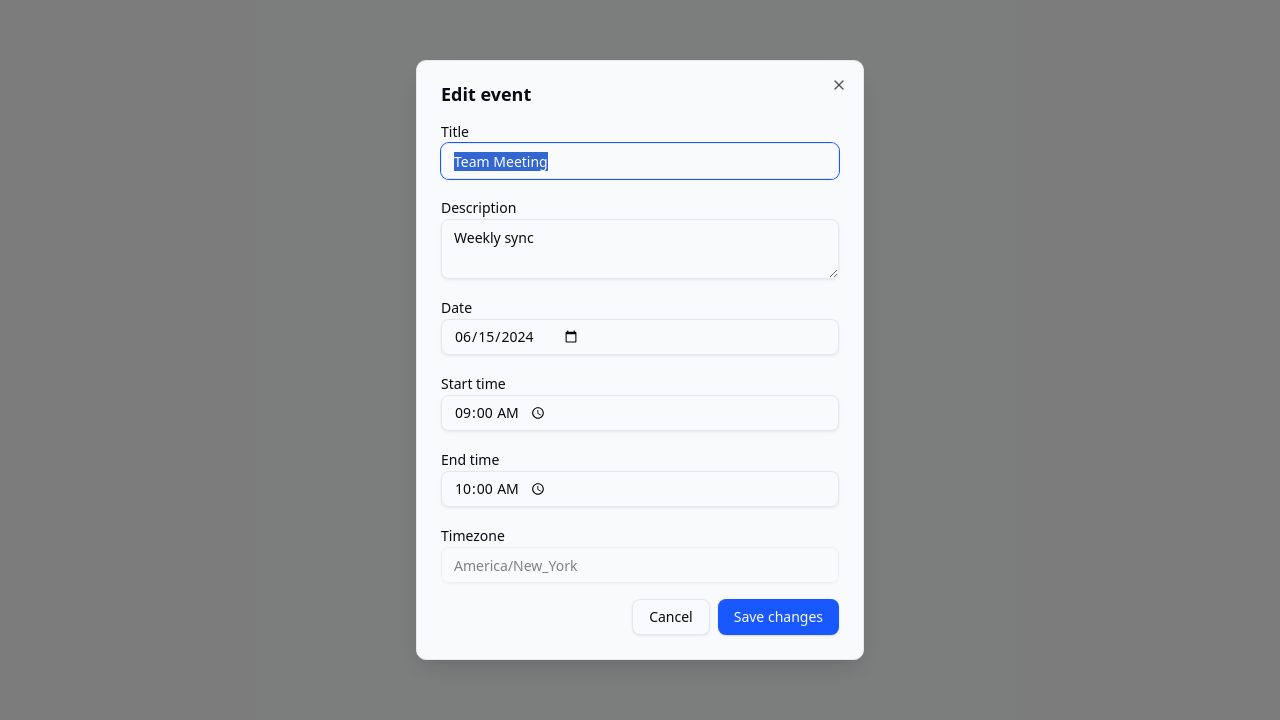
Scenario: EditEventDialog › validation › shows error when title is empty
Clear the field with test id "edit-event-title". click: point(640, 161)
box: [441,143,839,179]
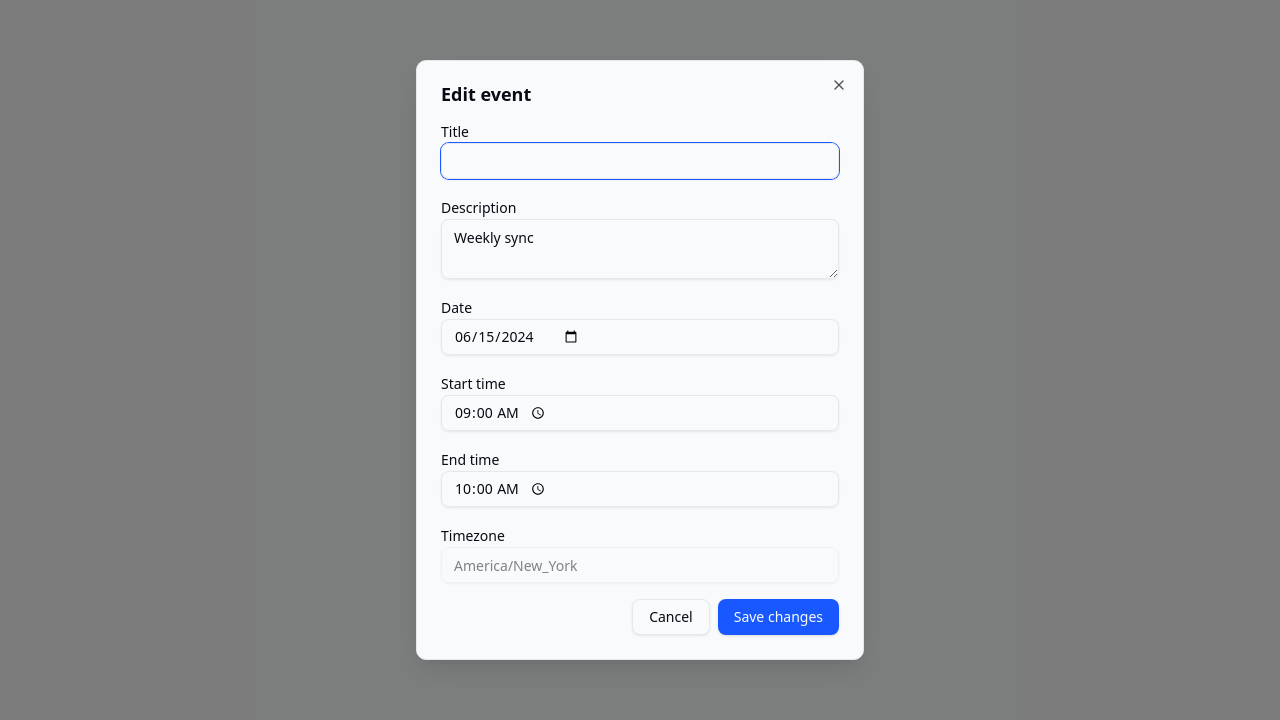
Click the button with test id "edit-event-submit". click: point(778, 617)
box: [718,599,839,635]
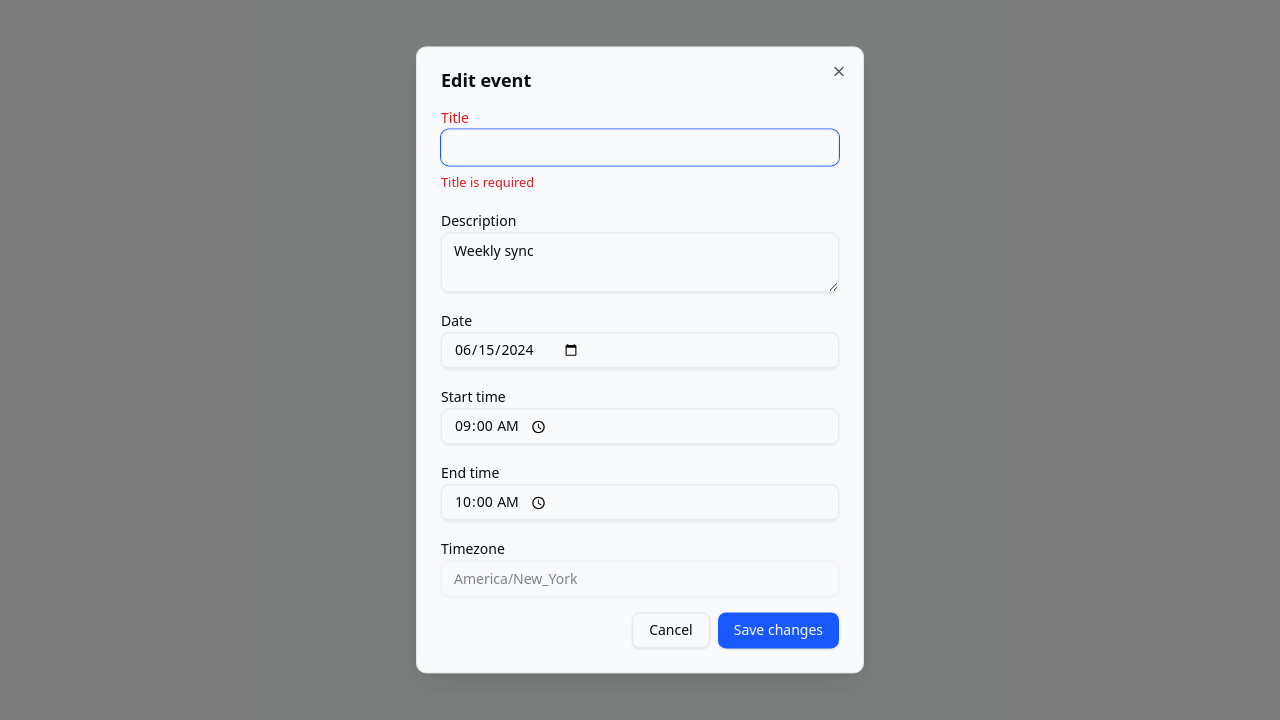
Now the text "Title is required" is shown, box [441,173,534,191]
